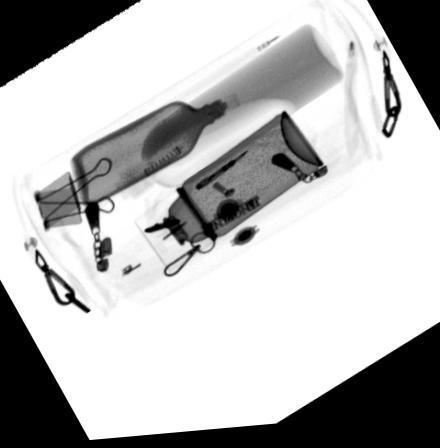Sprayer: (130, 113, 325, 277)
